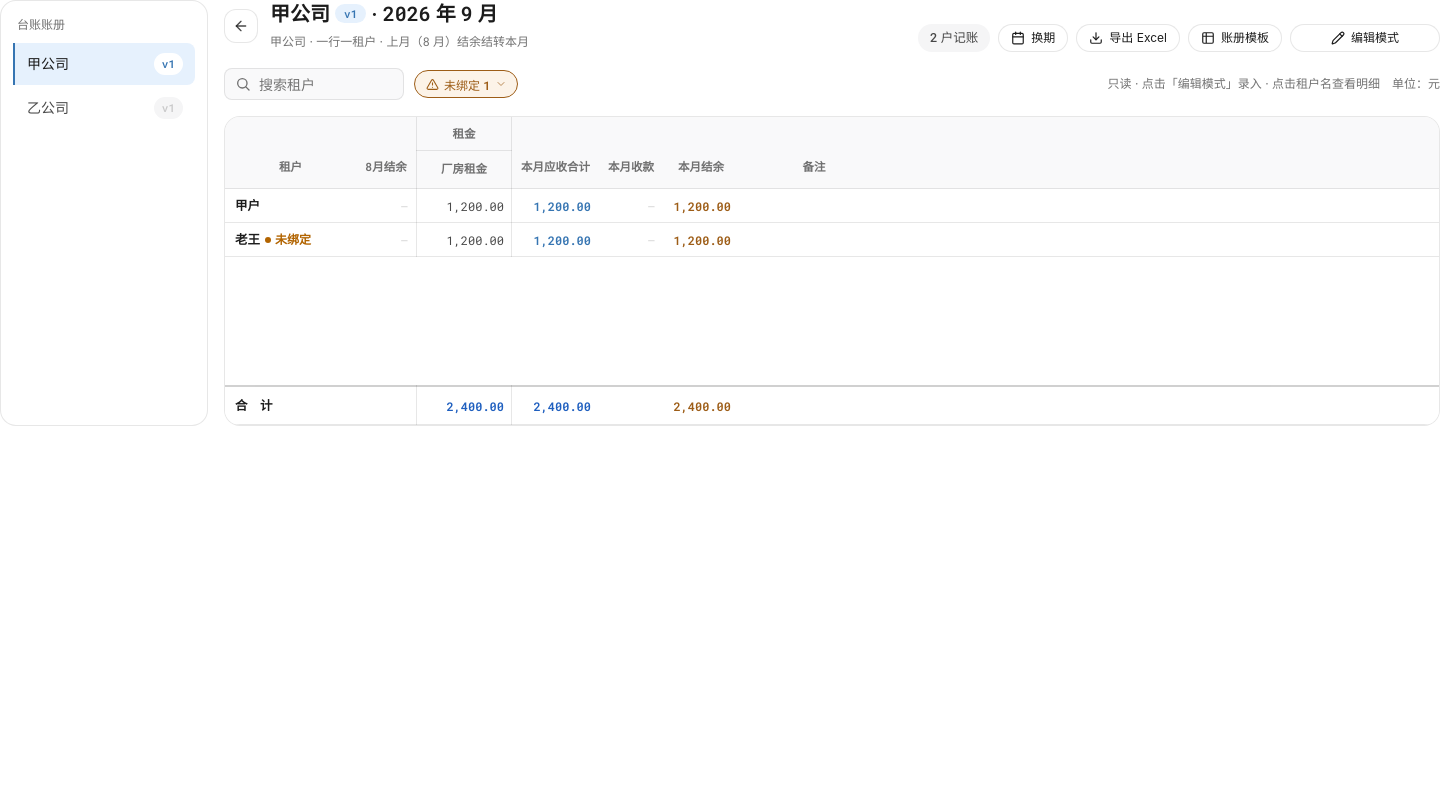
Test: 月度台账 ·「未绑定」入口胶囊 + 问题面板 › 点「未绑定 1」:清单贴着胶囊弹出,没有右侧抽屉的遮罩
Click the button with class "fac". click: x=466, y=84
box: left=414, top=70, right=518, bottom=98
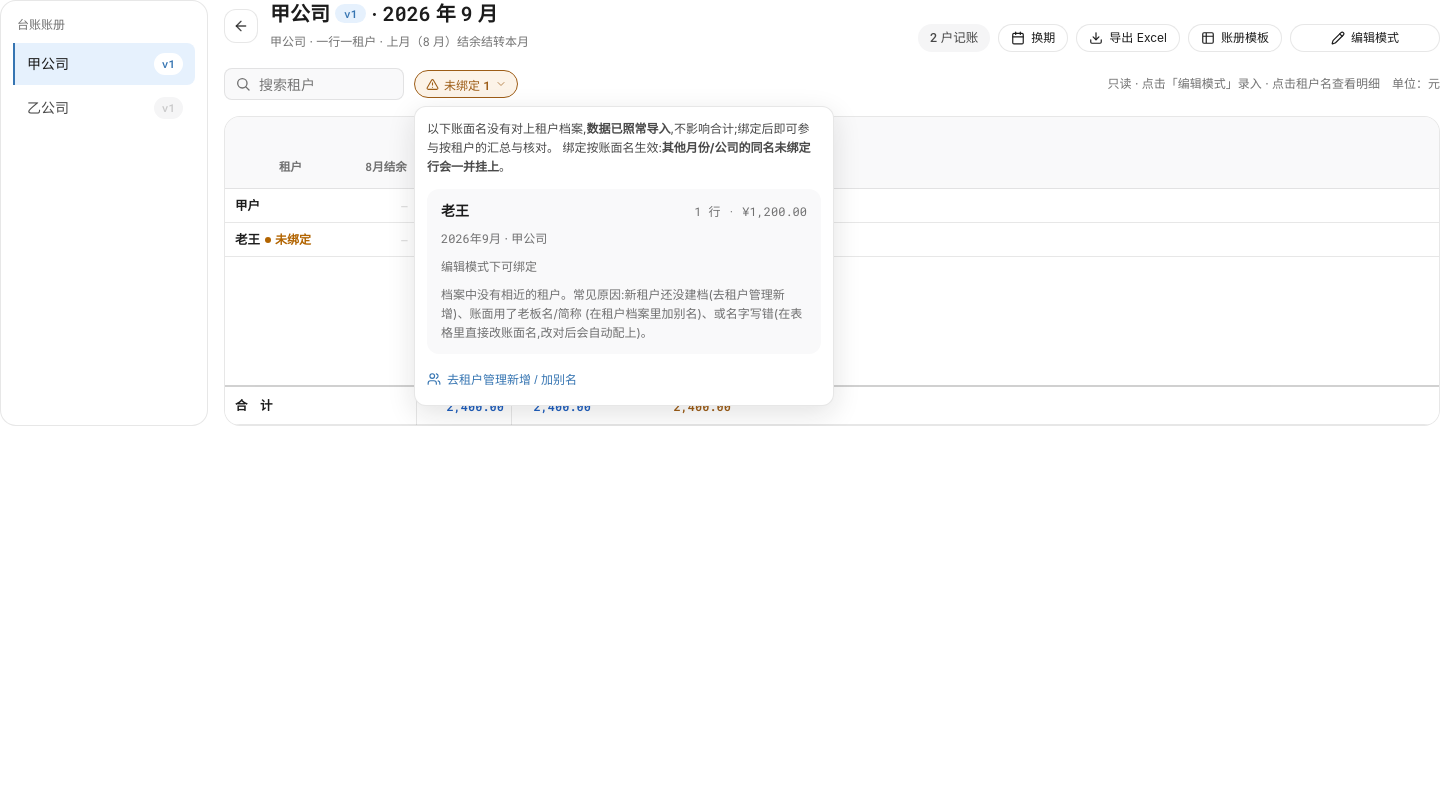
Expected: the element with class "tip-card" shows "老王", left=441, top=202, right=469, bottom=219
